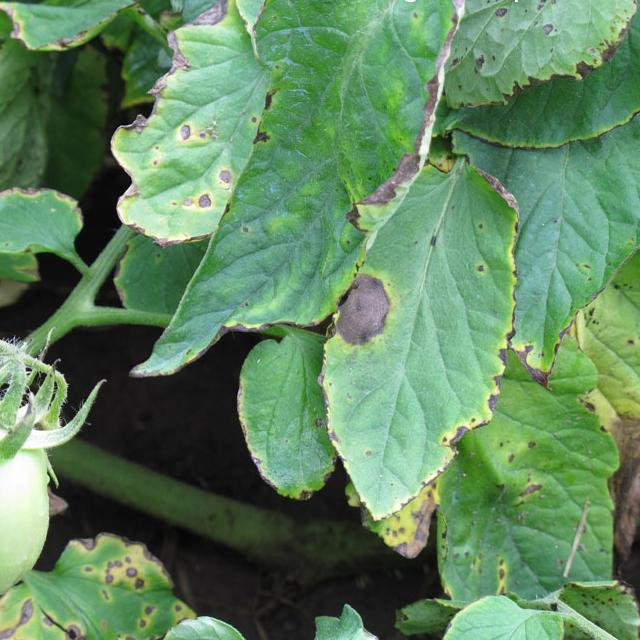Tomato Early blight leaf: (109, 0, 473, 366), (310, 158, 522, 503), (413, 367, 614, 627)
